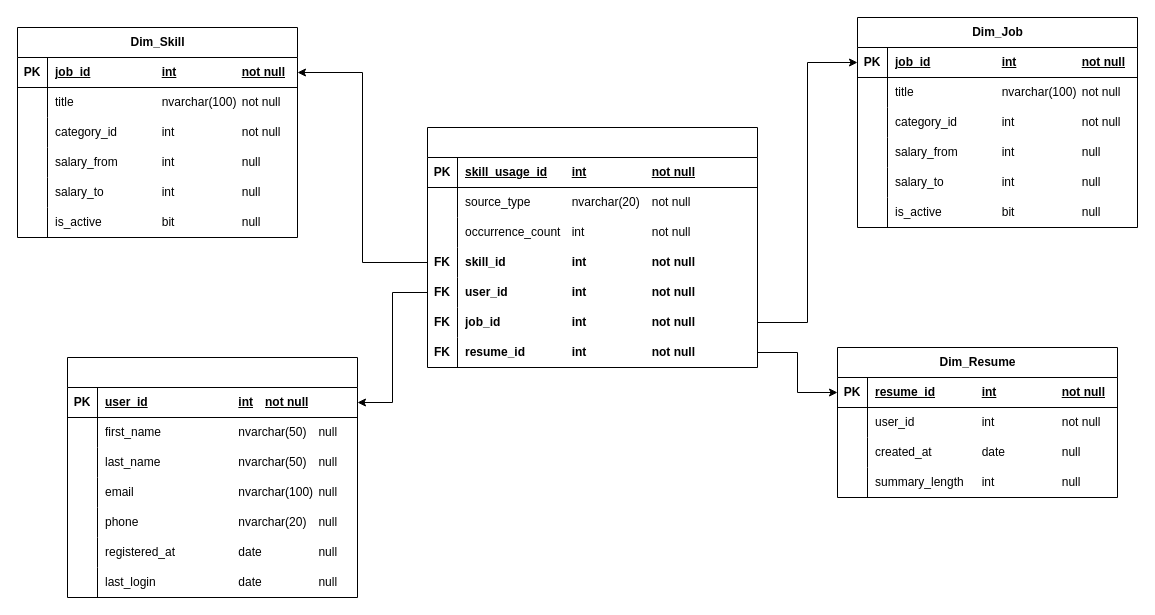
Some shapes in this 1155 by 615 pixel diagram are drawn without their labels. Here are the shapes that lost their labels. From the top down, the box of each, then its label:
(426, 126, 758, 368): Fact_Skill_Usage
(66, 356, 358, 598): Dim_User
